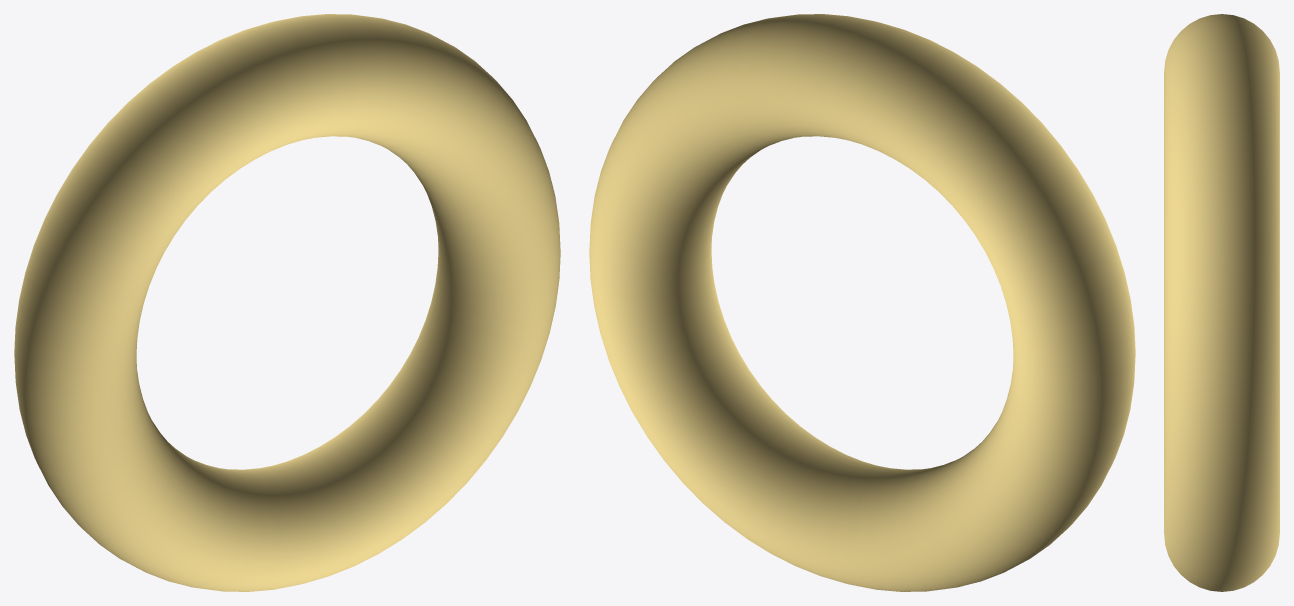
The model's file is test-ring.glb.
3 views of the same model, side by side, from view 1: azimuth 30°, elevation 25°; view 2: azimuth 150°, elevation 25°; view 3: azimuth 270°, elevation 25° (orthographic). The views are drawn at different scales.
Parts seen in each view (by area): view 1: Model; view 2: Model; view 3: Model.
Boxes of the visible parts, x1,y1,x2,y2 form: Model: [14, 14, 560, 591]; Model: [589, 14, 1135, 591]; Model: [1164, 14, 1279, 591].
Bounding box in the file's own units: 25 × 25 × 5.
